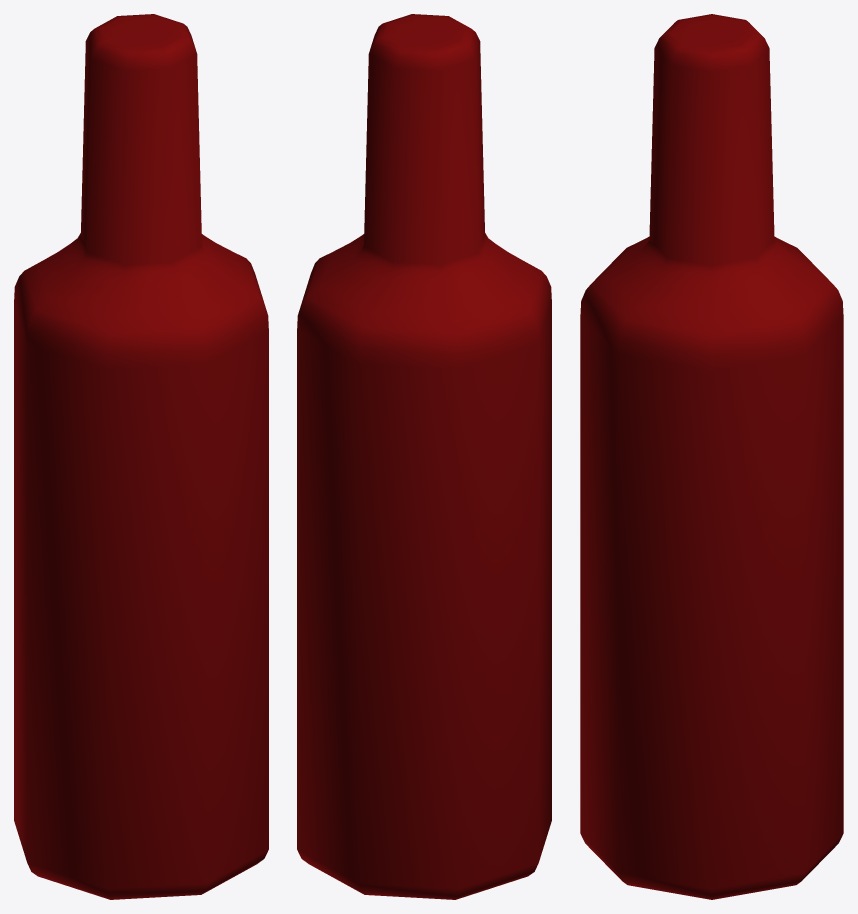
File: fish_sauce_bottle.fbx
3 views of the same model, side by side, from view 1: azimuth 30°, elevation 25°; view 2: azimuth 150°, elevation 25°; view 3: azimuth 270°, elevation 25° (orthographic).
Parts seen in each view (by area): view 1: fish_sauce_bottle; view 2: fish_sauce_bottle; view 3: fish_sauce_bottle.
Part boxes in pixels (x1,y1,x2,y2): fish_sauce_bottle: [14, 14, 268, 899]; fish_sauce_bottle: [297, 14, 551, 899]; fish_sauce_bottle: [580, 14, 843, 899].
Size of the model in its own units: 18.45 by 63.42 by 18.45.
Materials: 1 (1 with a texture image).
